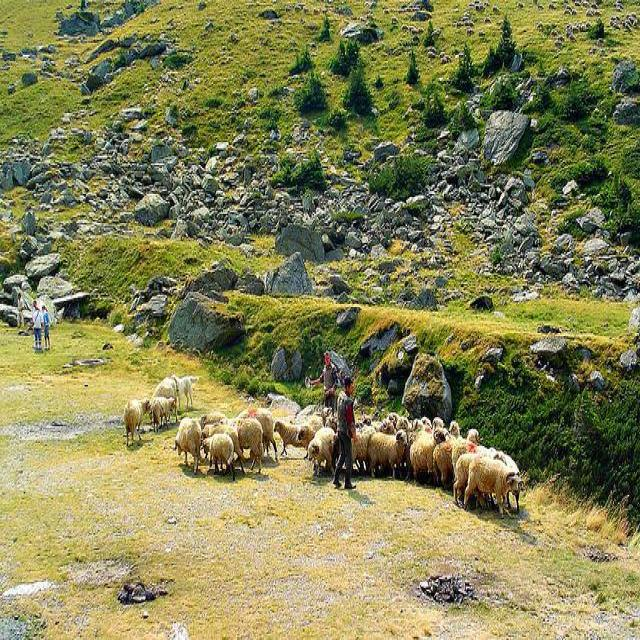Sheep: (147, 394, 528, 513), (464, 456, 520, 520), (219, 417, 263, 475), (238, 405, 282, 458), (409, 426, 446, 486), (369, 431, 407, 481)
